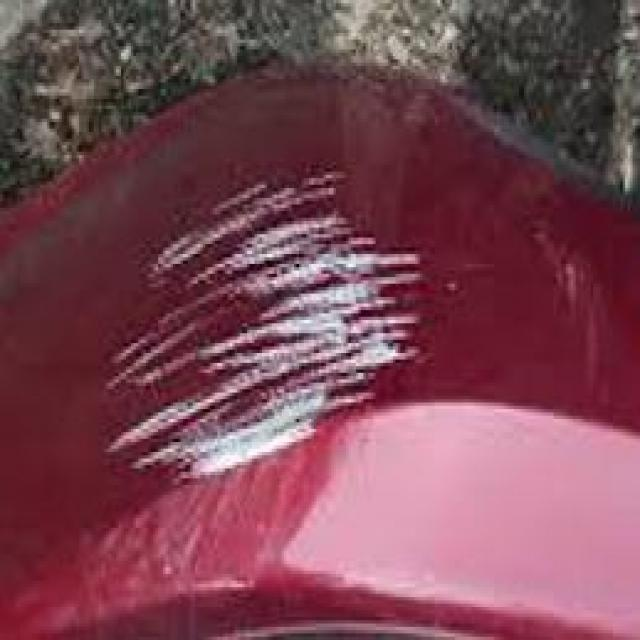scratch: (82, 156, 426, 494)
